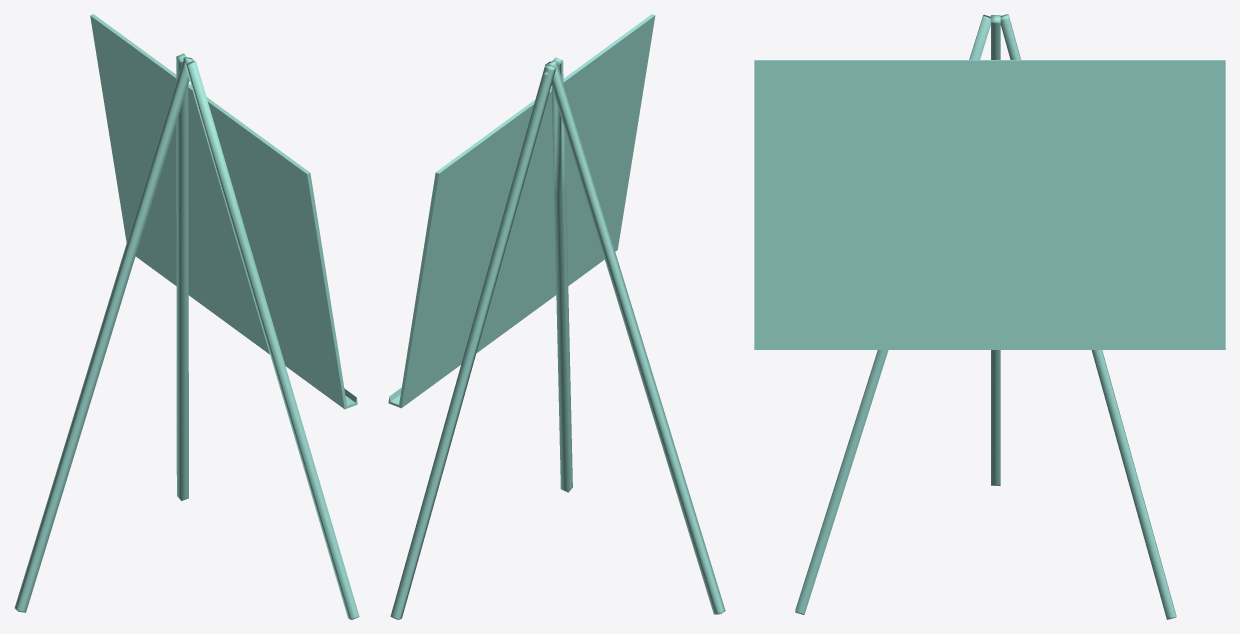
The model's file is message board.fbx.
The picture shows the model from 3 angles, left to right: view 1: azimuth 30°, elevation 25°; view 2: azimuth 150°, elevation 25°; view 3: azimuth 270°, elevation 25°; orthographic projection. The views are drawn at different scales.
Visible parts, largest first — view 1: Object_2; view 2: Object_2; view 3: Object_2.
Boxes of the visible parts, x1=… form: Object_2: x1=14, y1=14, x2=359, y2=619; Object_2: x1=388, y1=14, x2=725, y2=619; Object_2: x1=754, y1=14, x2=1225, y2=619.
Bounding box in the file's own units: 494 × 975 × 739.
